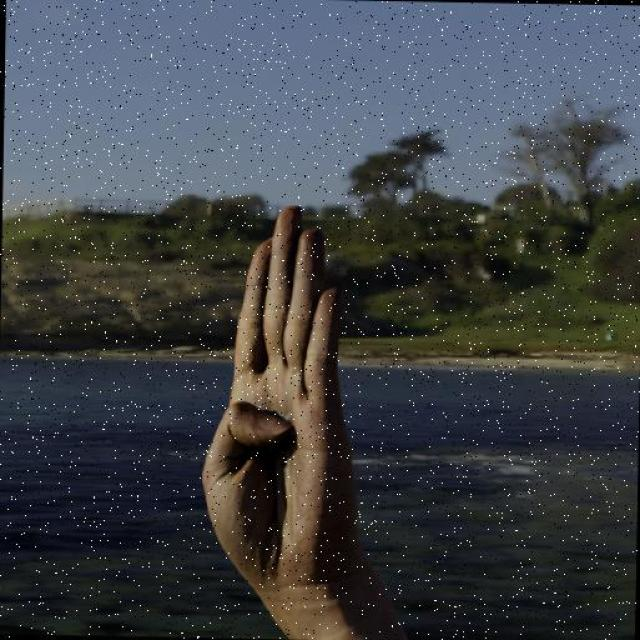B: (193, 196, 372, 602)
